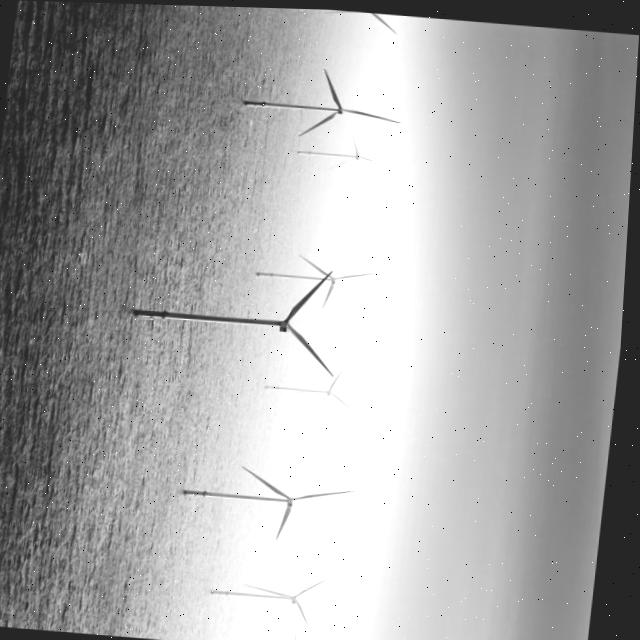solid-blade: (291, 324, 338, 375), (290, 269, 335, 316), (247, 464, 296, 497), (282, 500, 297, 537)
